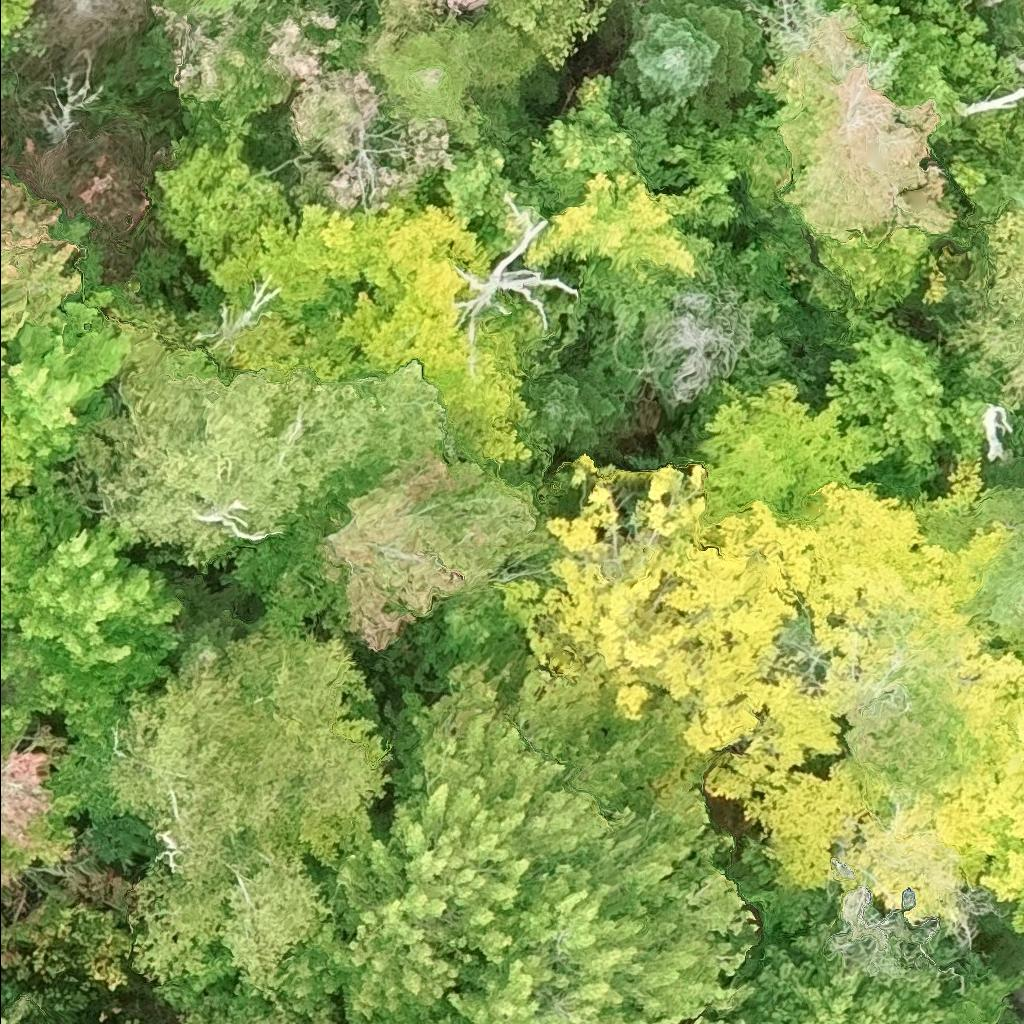crown: (492, 462, 847, 805), (79, 360, 454, 571), (444, 780, 767, 1023), (705, 459, 1014, 713), (272, 774, 536, 1023), (333, 200, 544, 465), (301, 446, 564, 653), (758, 5, 956, 248), (390, 650, 613, 863), (0, 518, 186, 745), (741, 755, 968, 925), (105, 656, 271, 886), (129, 854, 335, 1015), (225, 702, 398, 884), (921, 636, 1023, 935), (750, 919, 1023, 1023), (696, 377, 885, 522), (523, 165, 739, 288), (204, 200, 410, 326), (6, 287, 133, 475), (256, 0, 394, 164), (821, 303, 955, 464), (529, 65, 692, 193), (449, 192, 579, 347), (149, 4, 294, 142), (150, 136, 293, 272), (883, 0, 1023, 130), (618, 0, 770, 108), (0, 468, 84, 657), (946, 205, 1023, 408), (0, 700, 82, 889), (0, 172, 81, 360), (842, 661, 952, 795), (224, 617, 376, 713), (649, 276, 756, 404), (958, 454, 1023, 647), (374, 10, 481, 119), (518, 364, 630, 456), (493, 0, 617, 72), (471, 4, 558, 106), (35, 49, 107, 151), (362, 0, 494, 53), (943, 355, 1005, 467), (0, 349, 38, 517), (440, 141, 514, 226), (177, 988, 335, 1023), (968, 144, 1023, 222), (42, 0, 159, 36), (0, 0, 47, 74), (953, 82, 1023, 120), (149, 0, 264, 13), (0, 992, 33, 1023), (125, 1018, 140, 1023), (856, 0, 872, 2), (396, 1021, 407, 1023), (1020, 70, 1023, 74)
